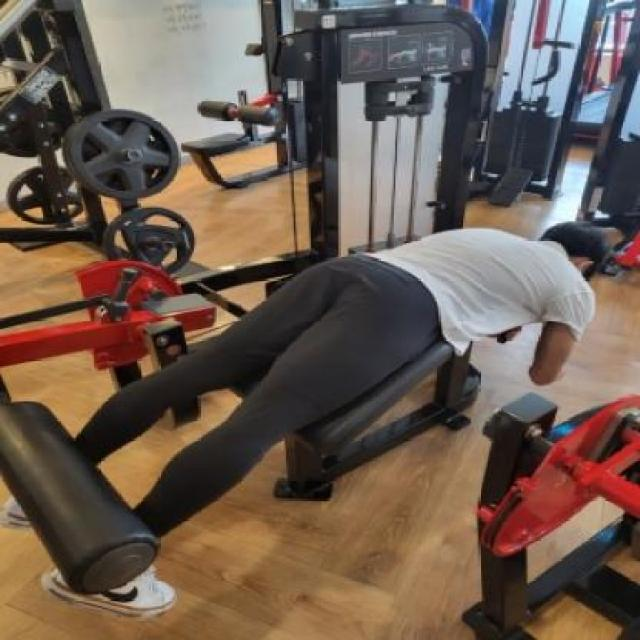reg curl machine: (0, 1, 614, 640)
